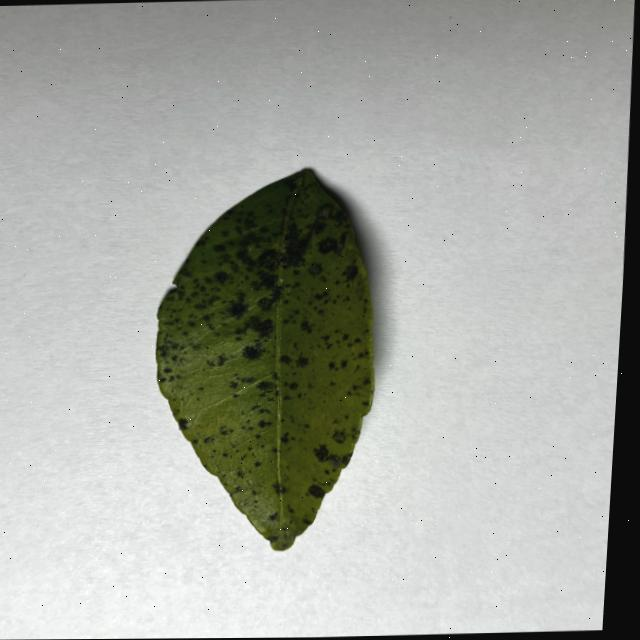sooty_mold: (155, 170, 373, 550)
